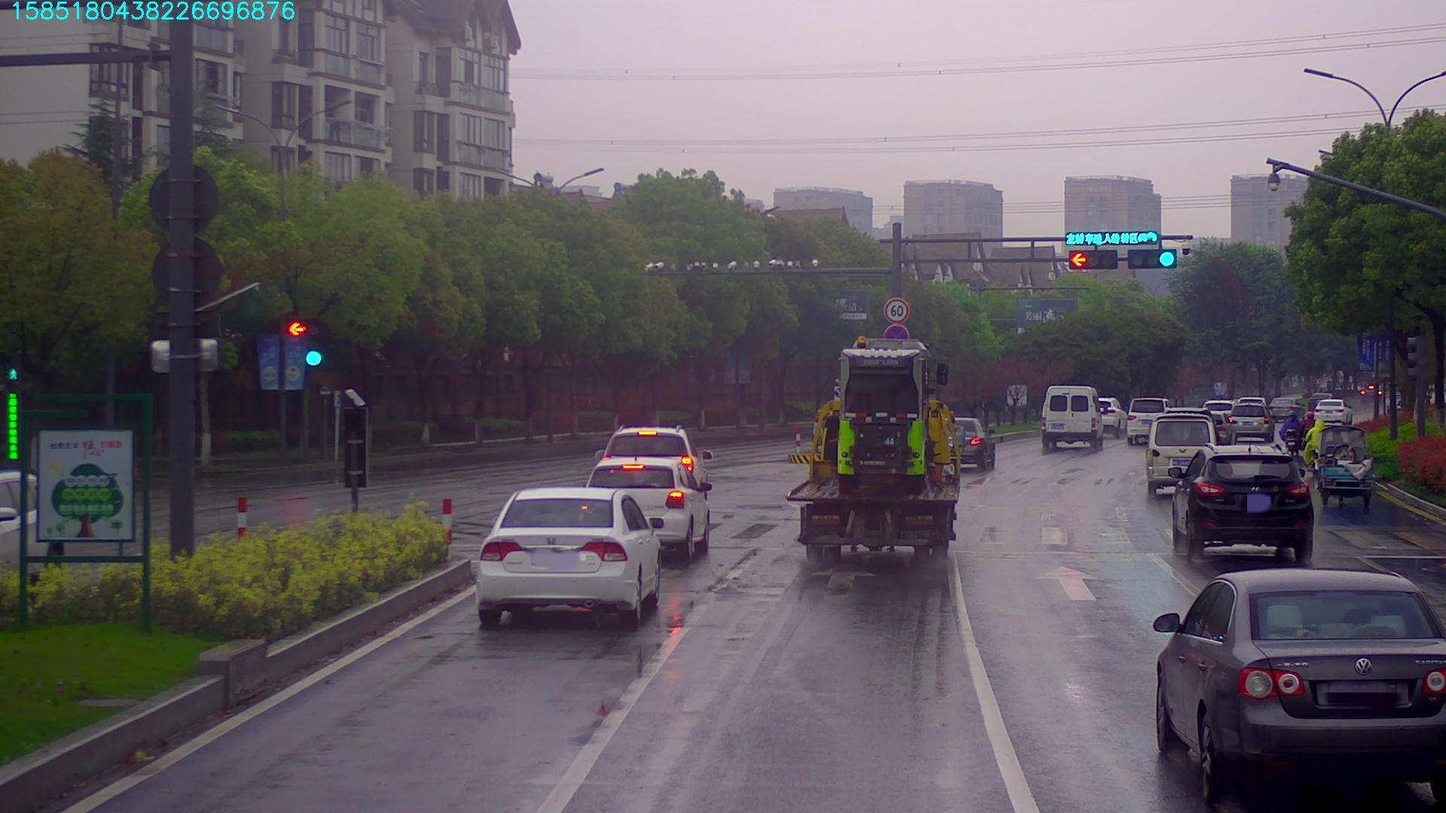green: (1129, 247, 1179, 264)
red: (1069, 247, 1118, 270)
wait_on: (1067, 233, 1154, 245)
